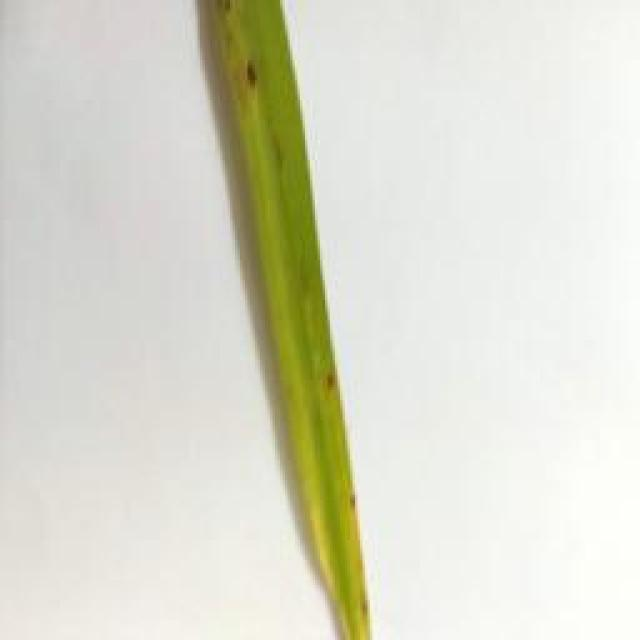Brown_Spot: (240, 40, 263, 90), (321, 354, 344, 401), (344, 486, 366, 516), (362, 585, 377, 613)
